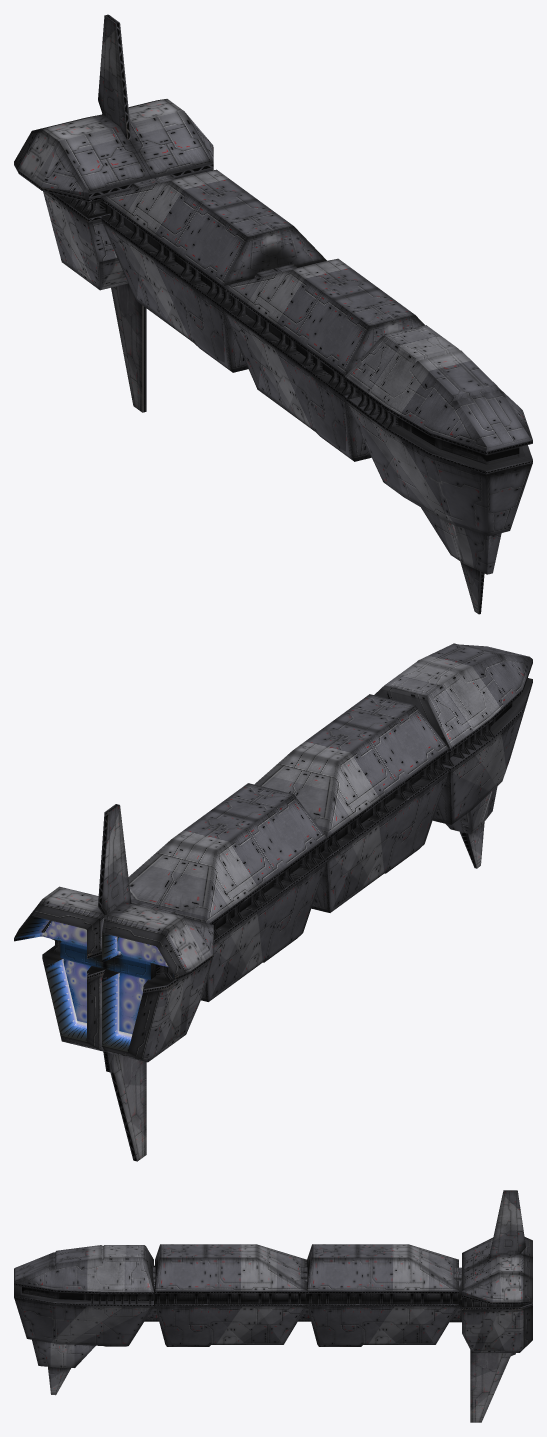
File: clydesdale.obj
3 renders of one model, top to bottom at view 1: azimuth 30°, elevation 25°; view 2: azimuth 150°, elevation 25°; view 3: azimuth 270°, elevation 25°, orthographic. The views are drawn at different scales.
Size of the model in its own units: 61.81 by 127 by 259.
Materials: 12 (12 with a texture image).
